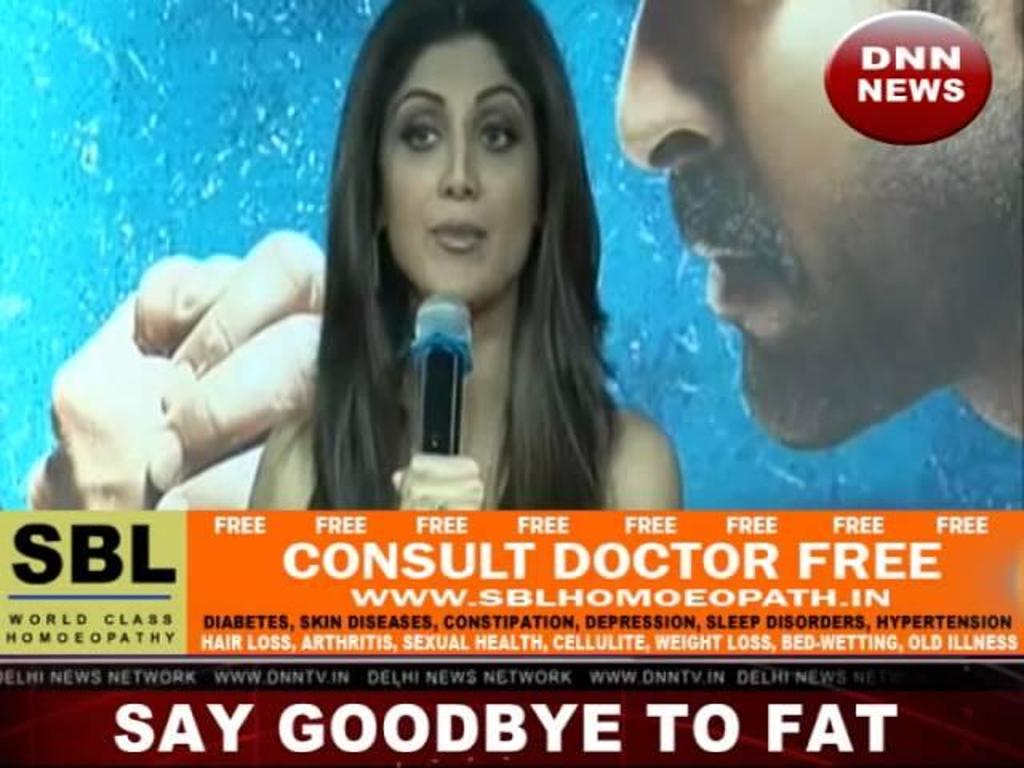face: (619, 1, 1022, 449), (378, 36, 542, 302)
